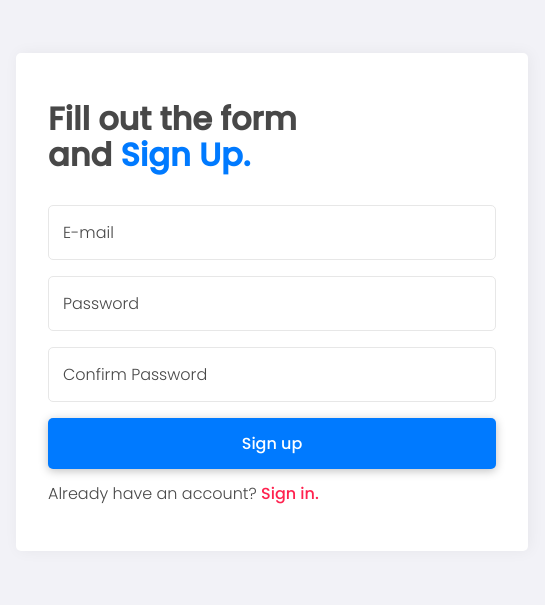
Test: Signup page validate fileds correctly › throws an error password is not secure, not matching, required field is empty
In the password field with placeholder "Password": [272, 303] box [48,276,496,331], type "invalidPassword"
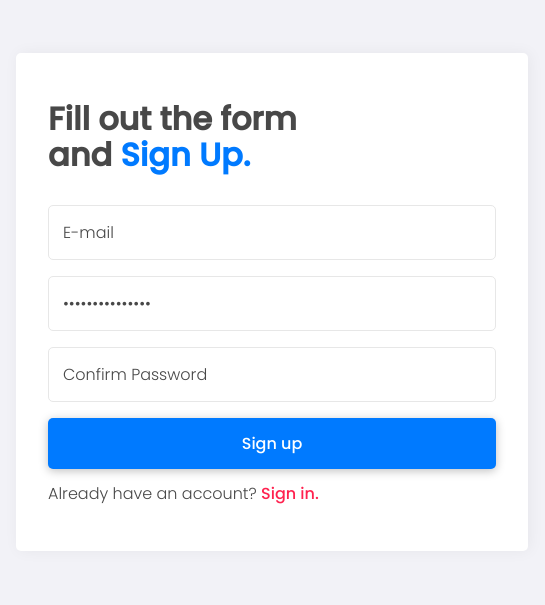
In the password field with placeholder "Confirm Password": [272, 374] box [48,347,496,402], type "invalidPassword2"
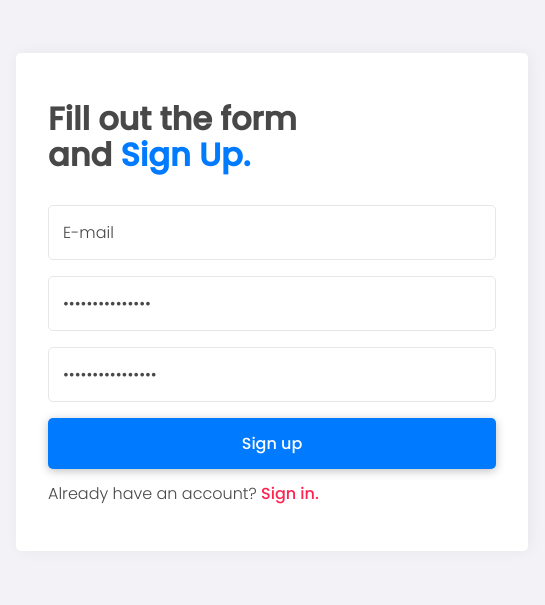
Click the button with test id "Button": [272, 443] box [48,418,496,469]
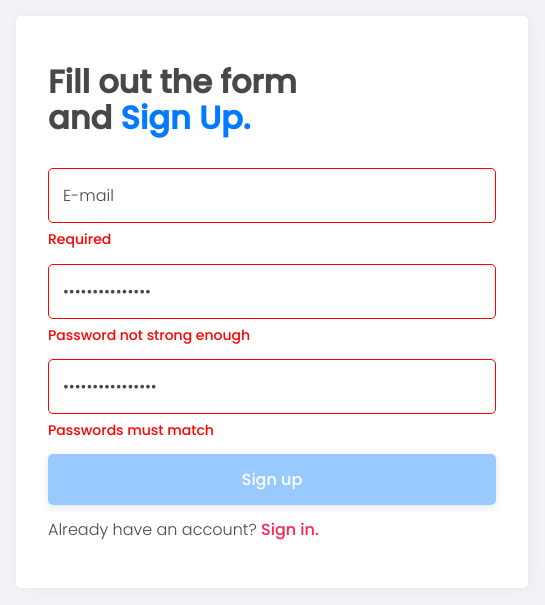
Result: the text "Required" is shown at [48,230,111,250]
Result: the text "Password not strong enough" is shown at [48,325,250,345]
Result: the text "Passwords must match" is shown at [48,420,214,440]
